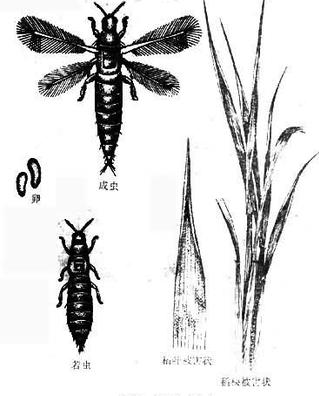pest: (84, 10, 142, 180), (63, 225, 96, 359)
